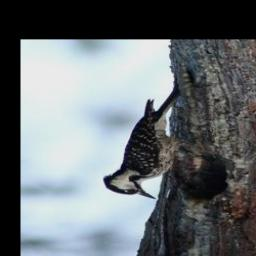Woodpecker: (100, 87, 212, 201)
